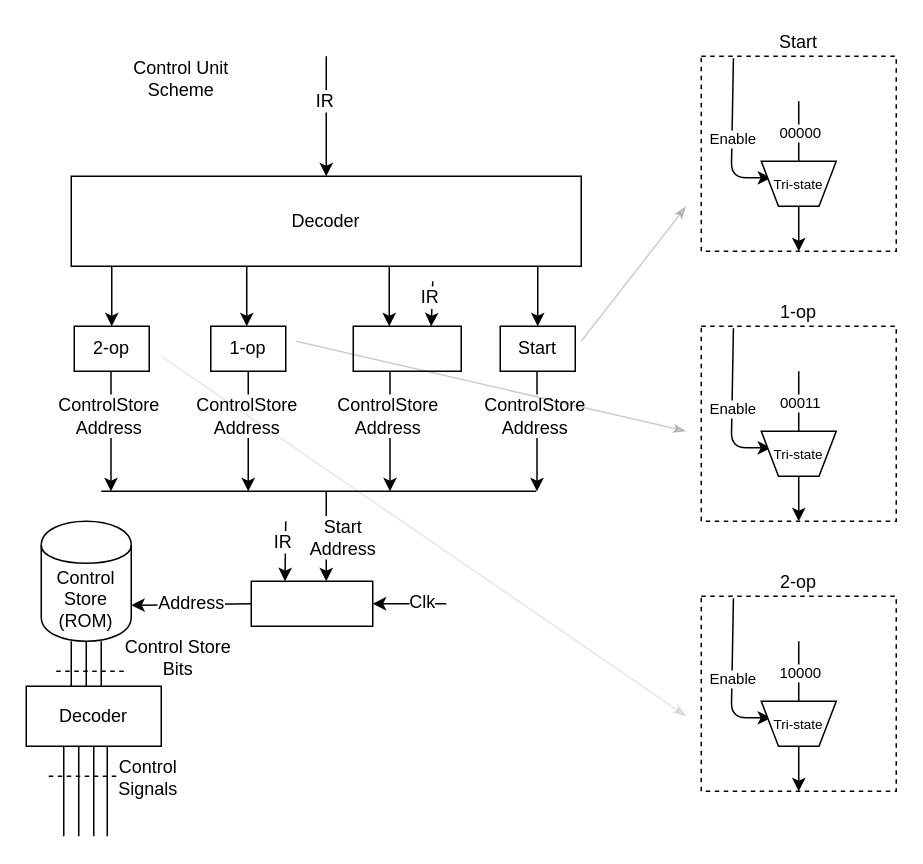
Image size: 923x864. Some labels were removed from this diagram. Here are the shapes that lost their labels. From the top down, the box of each, then its label:
(352, 325, 461, 371): Special
(250, 580, 373, 626): Iterator
